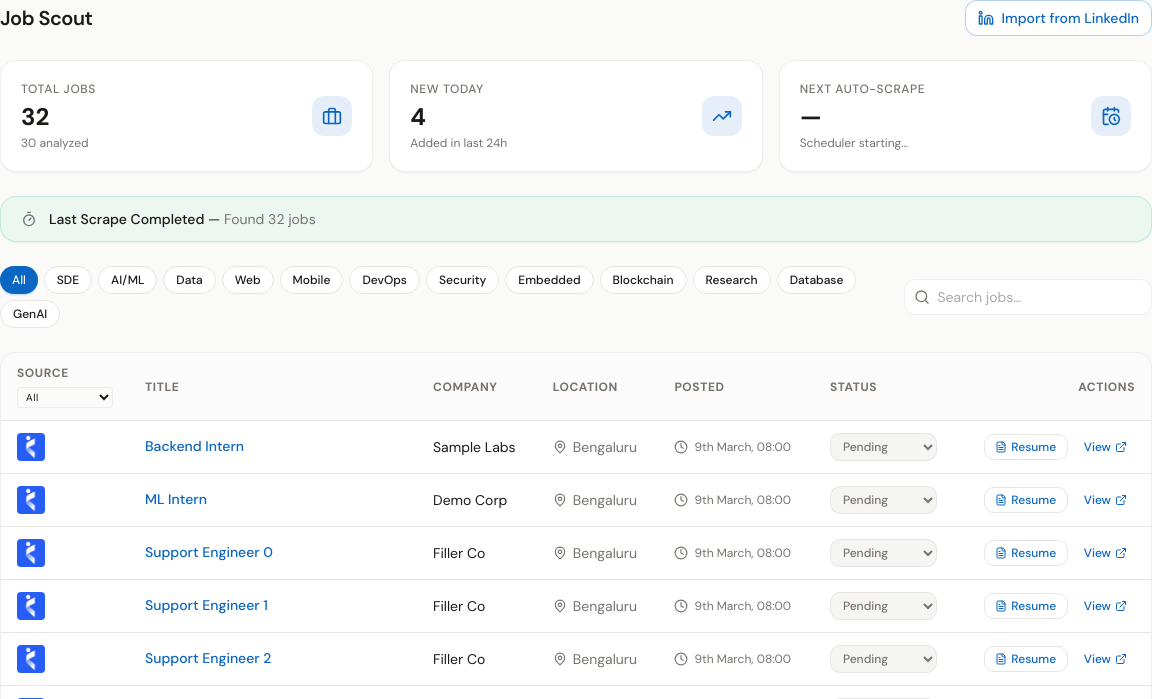
Test case: JobScoutShell › opens the job detail modal from a title
The image size is (1152, 699).
Click the button "ML Intern": click(176, 500) [145, 491, 207, 509]
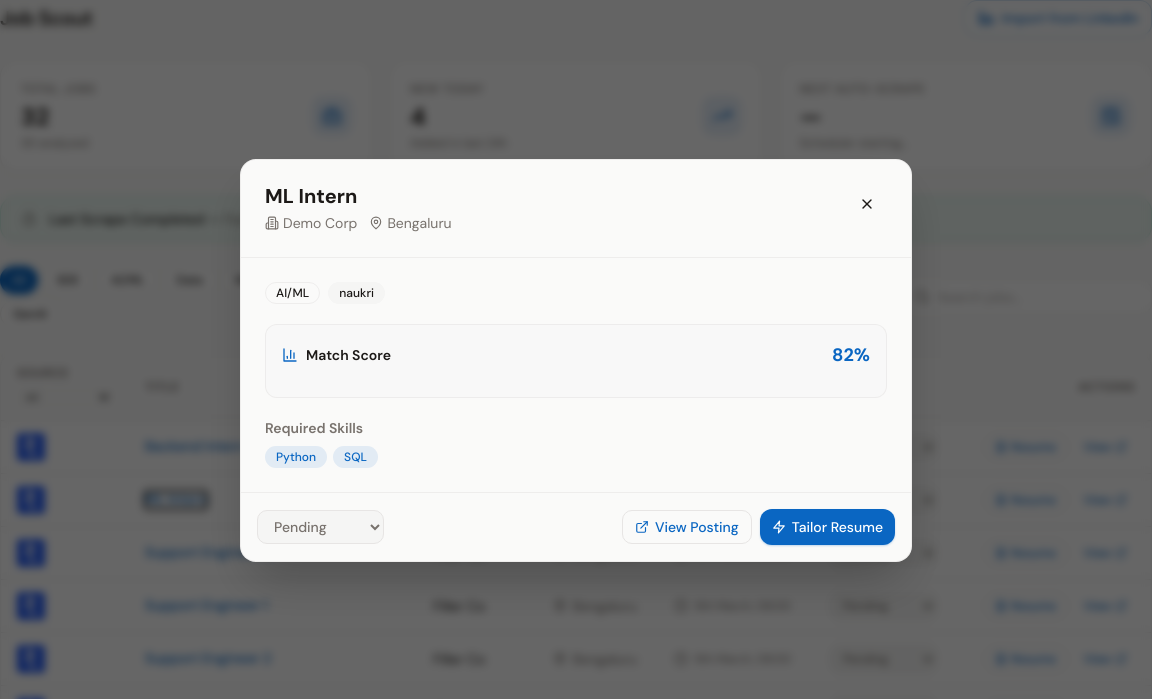
Now the heading "ML Intern" is shown, box [265, 182, 357, 208]
Now the text "Demo Corp" is shown, box [265, 212, 357, 232]
